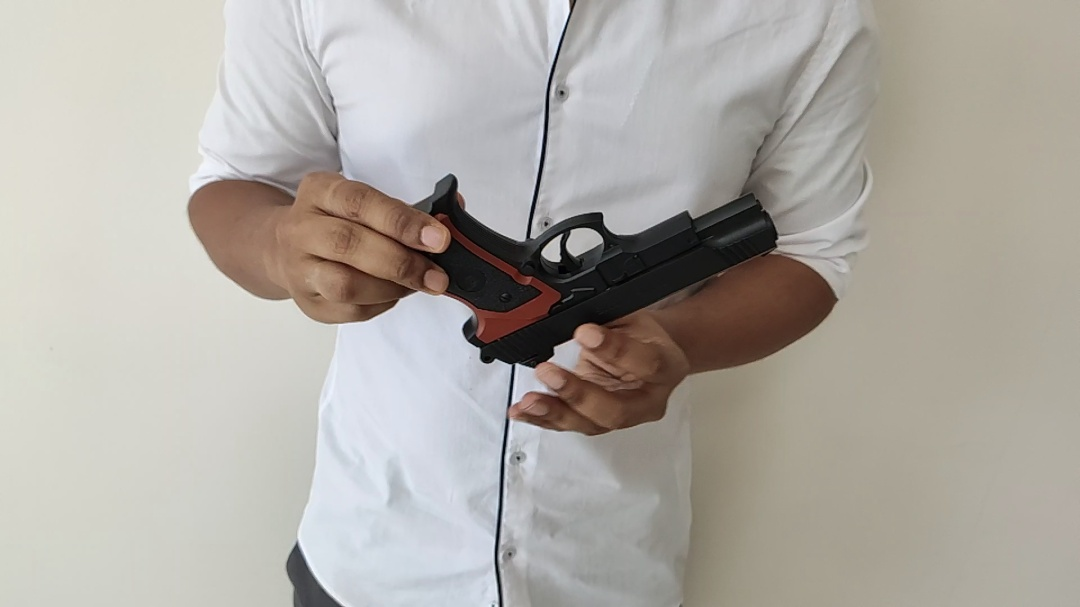gun: (408, 172, 779, 370)
